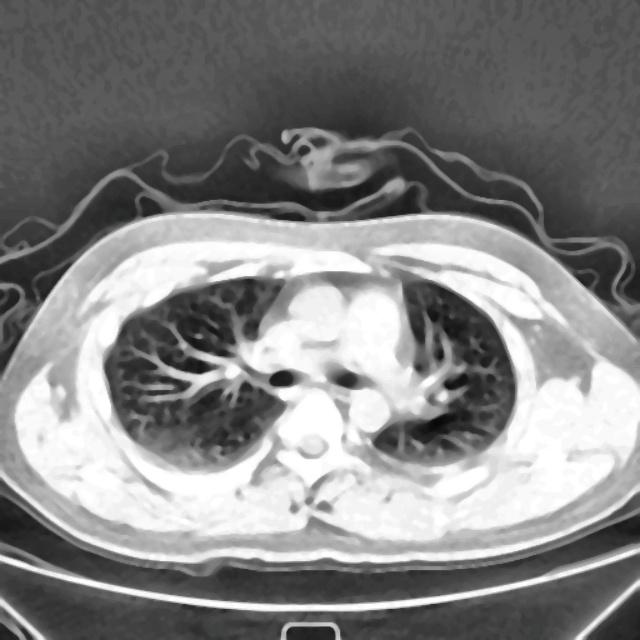covid: (4, 209, 638, 572)
